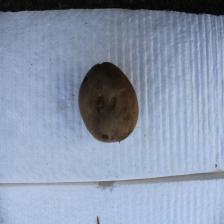Diseased-fungal potato: (78, 62, 140, 144)
